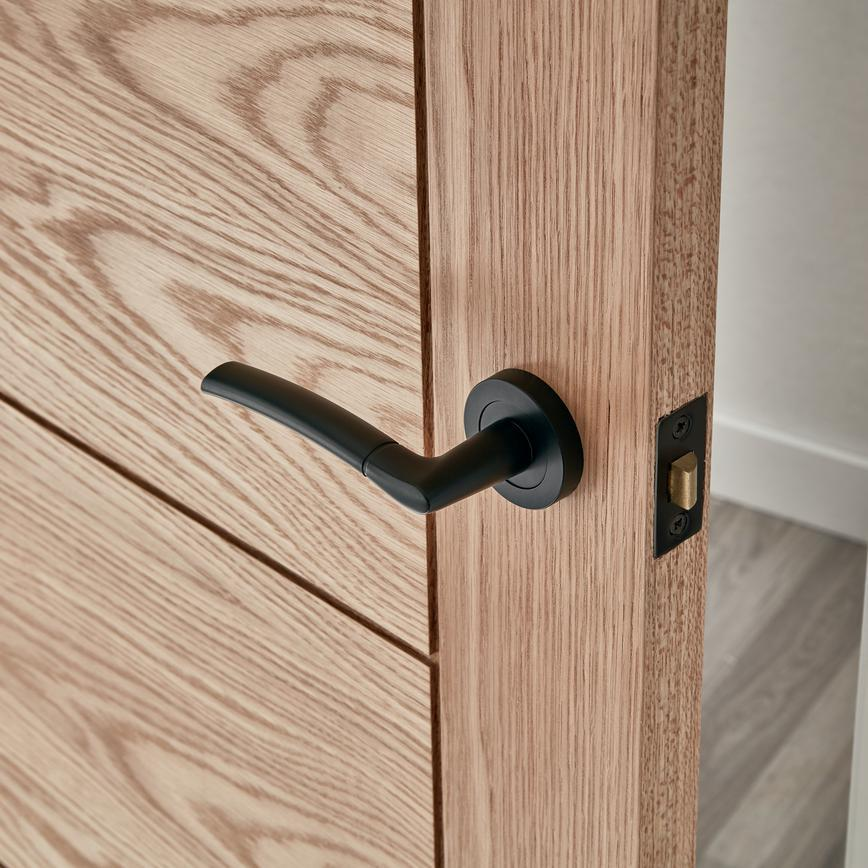doorhandle: (191, 294, 602, 553)
